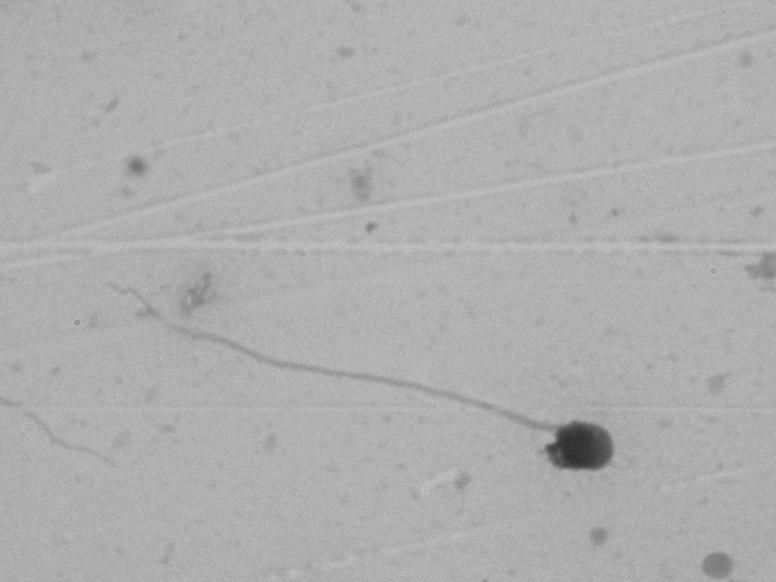Abnormal: (123, 309, 650, 489)
